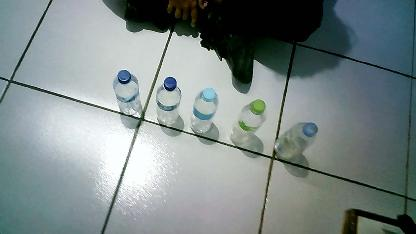Plastic Bottle: (274, 104, 320, 190), (229, 97, 269, 157), (108, 60, 144, 121), (188, 82, 224, 142), (152, 70, 186, 132)
